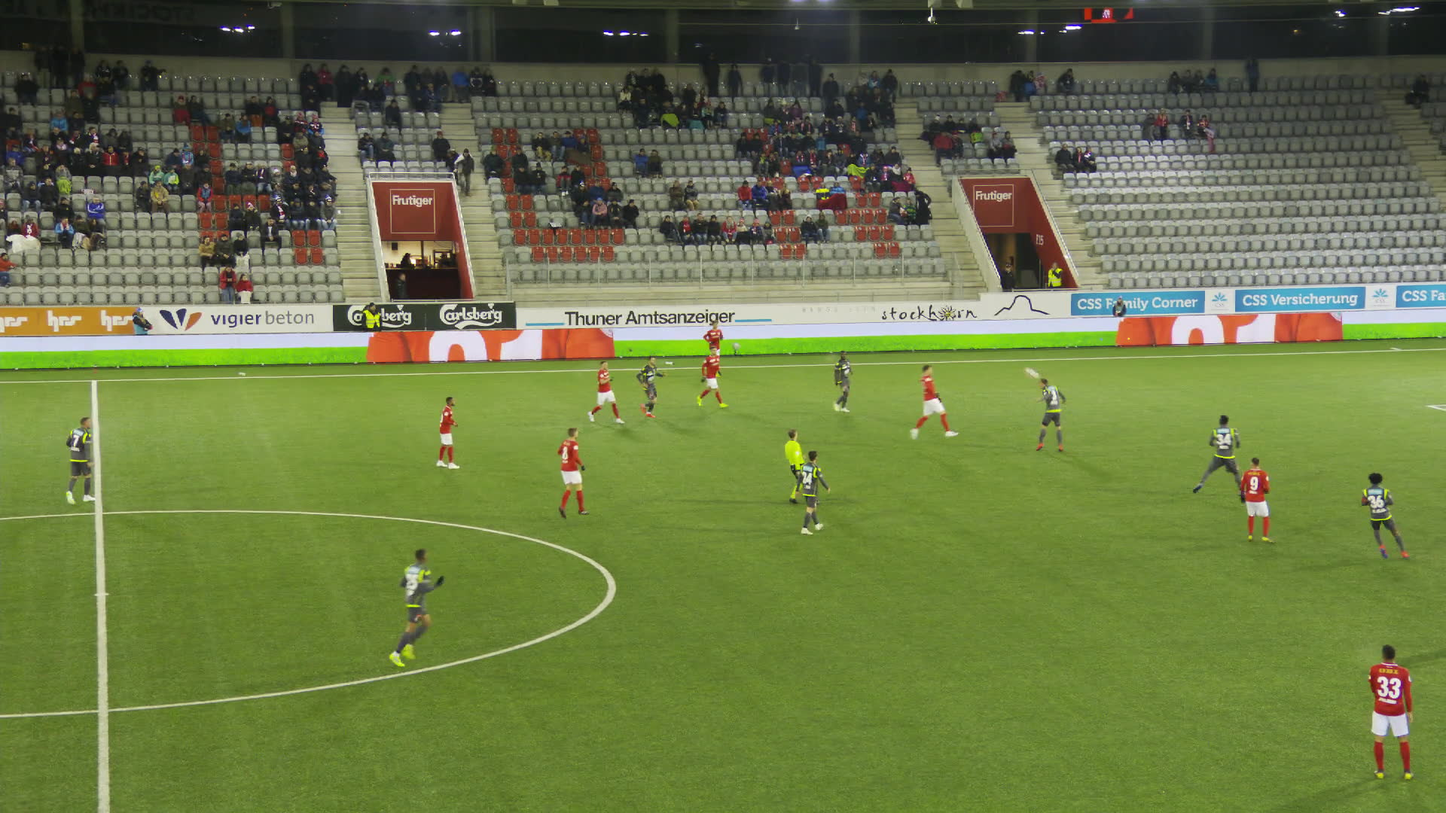ball: (1021, 364, 1039, 379)
player: (365, 547, 440, 671), (1362, 641, 1422, 786), (1356, 470, 1415, 566), (1190, 413, 1242, 500), (1025, 378, 1077, 456), (905, 365, 952, 447), (62, 413, 101, 510), (554, 427, 592, 524), (1236, 454, 1273, 549), (793, 449, 832, 537), (631, 352, 667, 422), (585, 360, 622, 428), (435, 394, 465, 473), (825, 349, 859, 418), (694, 346, 728, 411), (699, 321, 725, 382)
referee: (784, 422, 822, 509)
